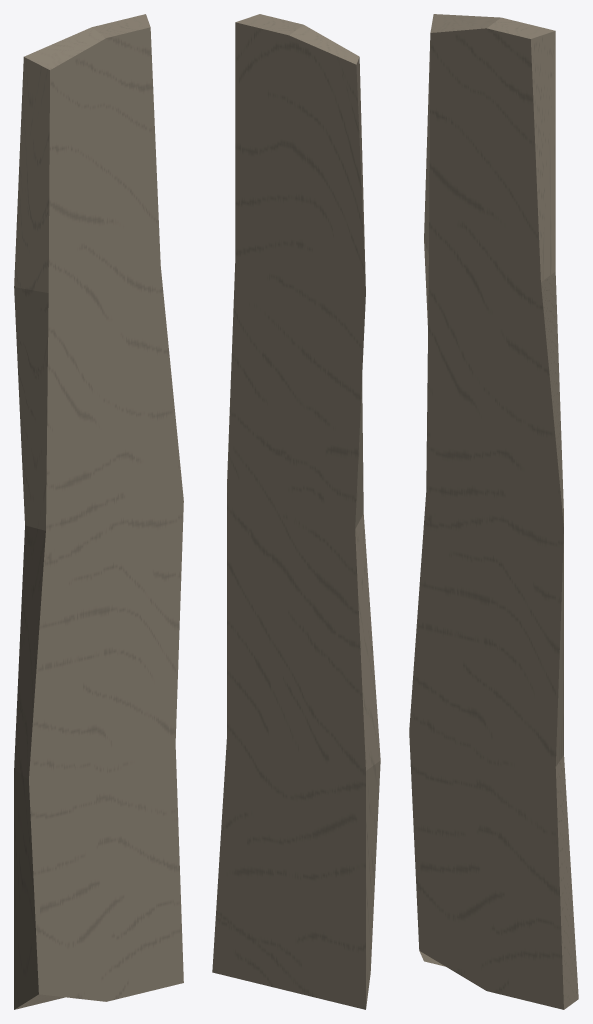
The model's file is Tablon1.fbx.
3 renders of one model, left to right at view 1: azimuth 30°, elevation 25°; view 2: azimuth 150°, elevation 25°; view 3: azimuth 330°, elevation 25°, orthographic.
Visible parts, largest first — view 1: Cube.010; view 2: Cube.010; view 3: Cube.010.
Boxes of the visible parts, box(x1,y1,x2,y2) form: Cube.010: box(14, 14, 183, 1009); Cube.010: box(212, 14, 380, 1009); Cube.010: box(409, 14, 578, 1009).
Bounding box in the file's own units: 138 × 819 × 22.77.
